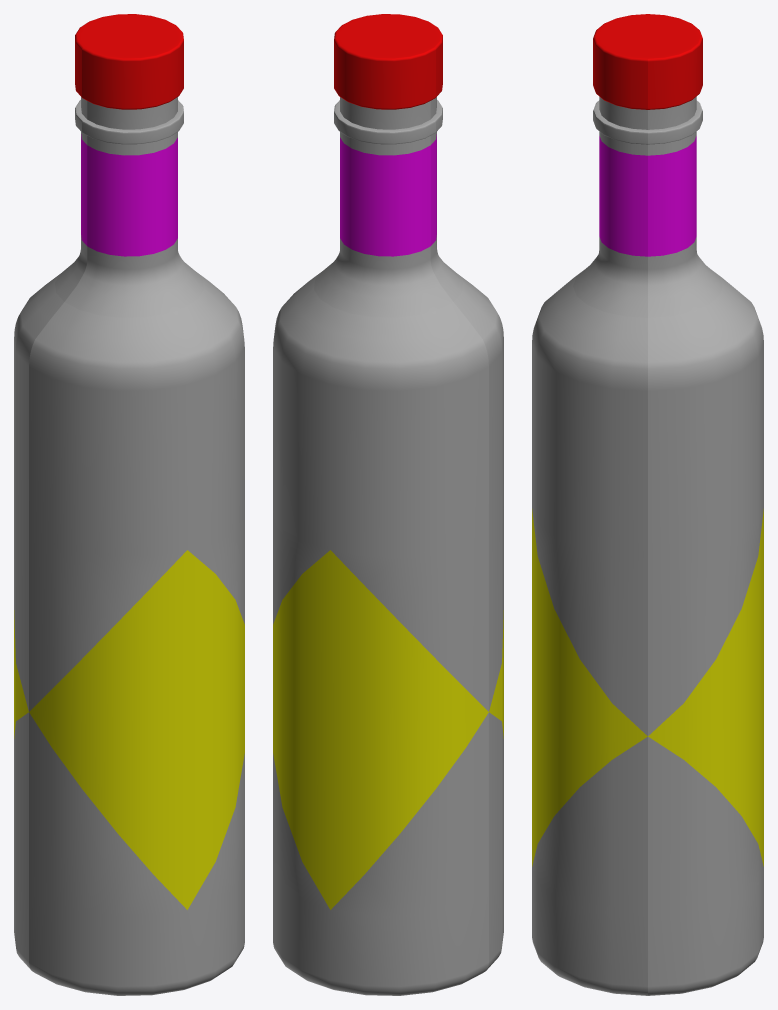
File: hotsauce.fbx
3 renders of one model, left to right at view 1: azimuth 30°, elevation 25°; view 2: azimuth 150°, elevation 25°; view 3: azimuth 270°, elevation 25°, orthographic.
Visible parts, largest first — view 1: pCylinder49; view 2: pCylinder49; view 3: pCylinder49.
Part boxes in pixels (bbox=[...]): pCylinder49: bbox=[14, 14, 244, 995]; pCylinder49: bbox=[273, 14, 503, 995]; pCylinder49: bbox=[532, 14, 763, 995].
Size of the model in its own units: 0.1366 by 0.5945 by 0.1366.
